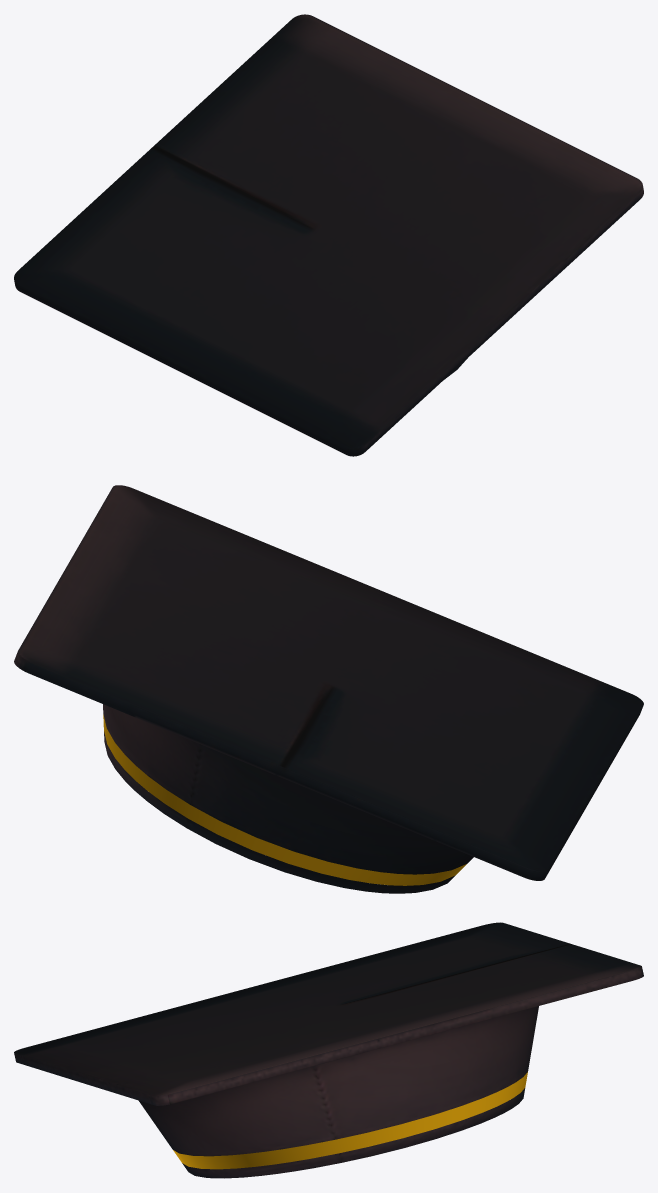
Rendered from comingSoonOne.glb.
3 views of the same model, one above another, from view 1: azimuth 30°, elevation 25°; view 2: azimuth 150°, elevation 25°; view 3: azimuth 270°, elevation 25° (orthographic). The views are drawn at different scales.
Parts seen in each view (by area): view 1: ED_Tech; view 2: ED_Tech; view 3: ED_Tech.
Boxes of the visible parts, x1,y1,x2,y2 form: ED_Tech: [14, 14, 643, 456]; ED_Tech: [14, 485, 643, 893]; ED_Tech: [14, 922, 643, 1178].
Size of the model in its own units: 1.65 by 0.7569 by 1.62.
2 materials, 1 textured.
